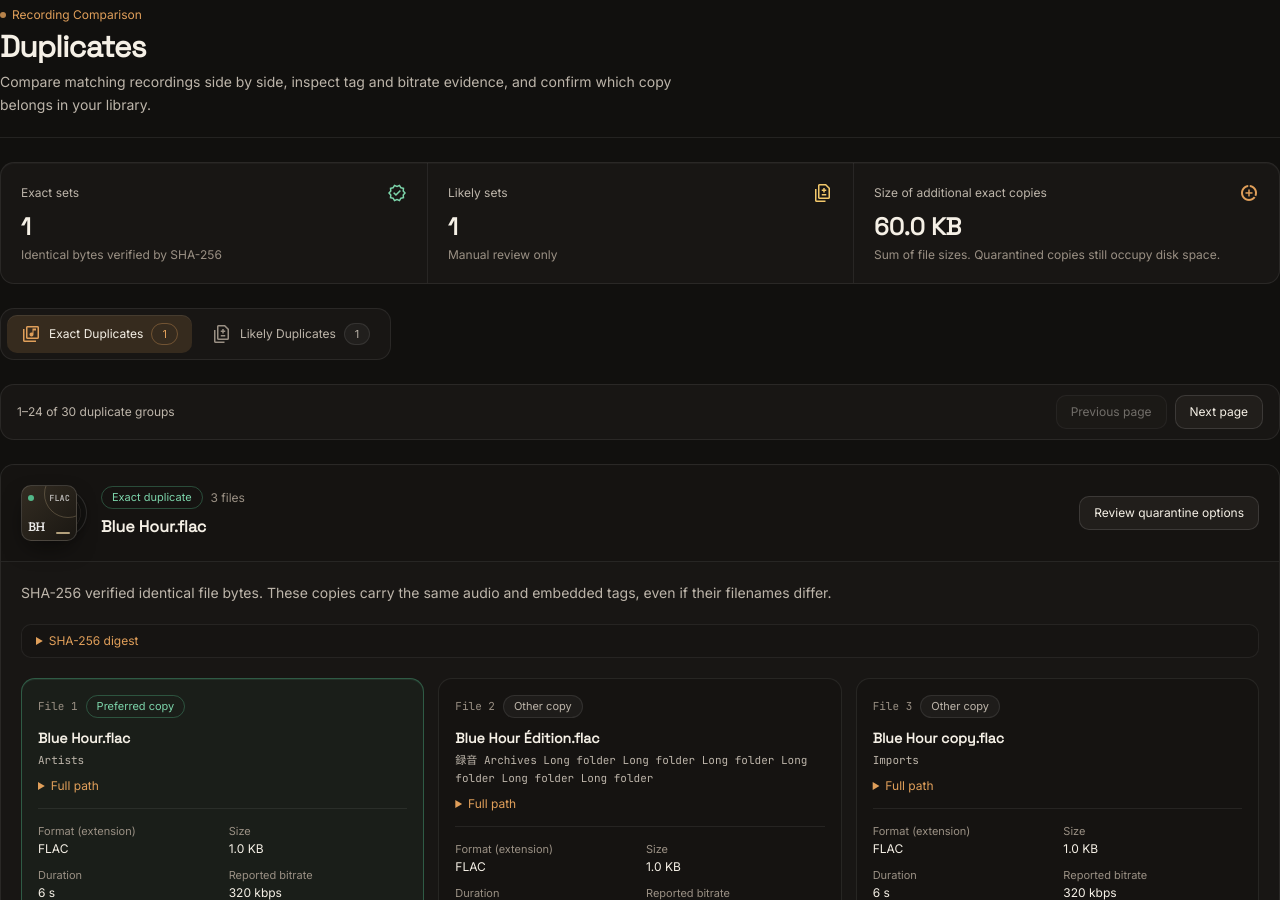
Duplicate comparison › pages large duplicate sets and starts each tab on its first page
The image size is (1280, 900).
expect the navigation bar named "duplicate groups pages" is shown: met, box [0,384,1279,440]
expect the text "1–24 of 30 duplicate groups" is shown: met, box [17,404,175,420]
Step 1. Click the button "Next page" → click(1219, 412), box [1175,394,1263,428]
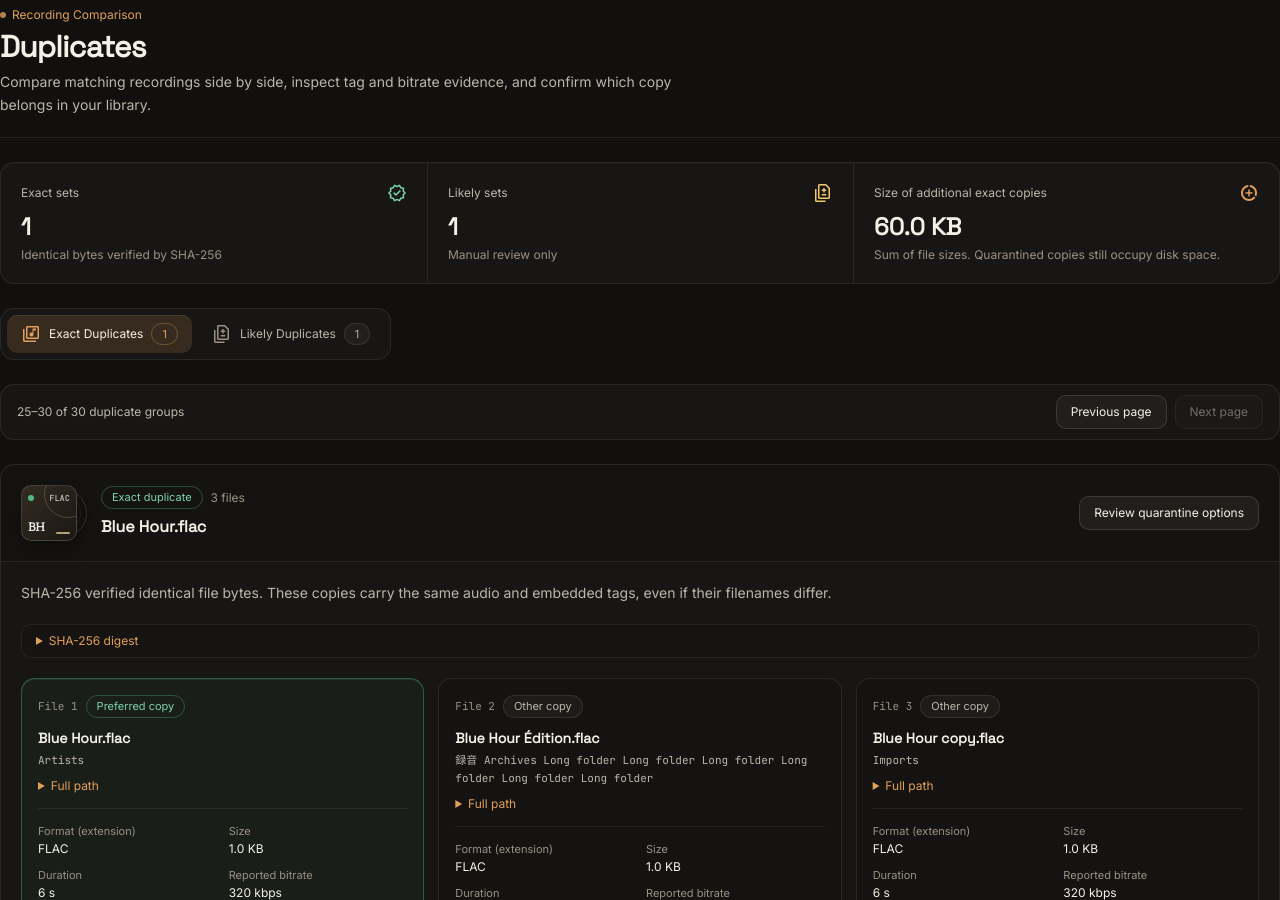
expect the button "Next page" is disabled: met, box [1175,394,1263,428]
Step 2. Click the button "Likely Duplicates 1" → click(291, 334), box [198,314,384,352]
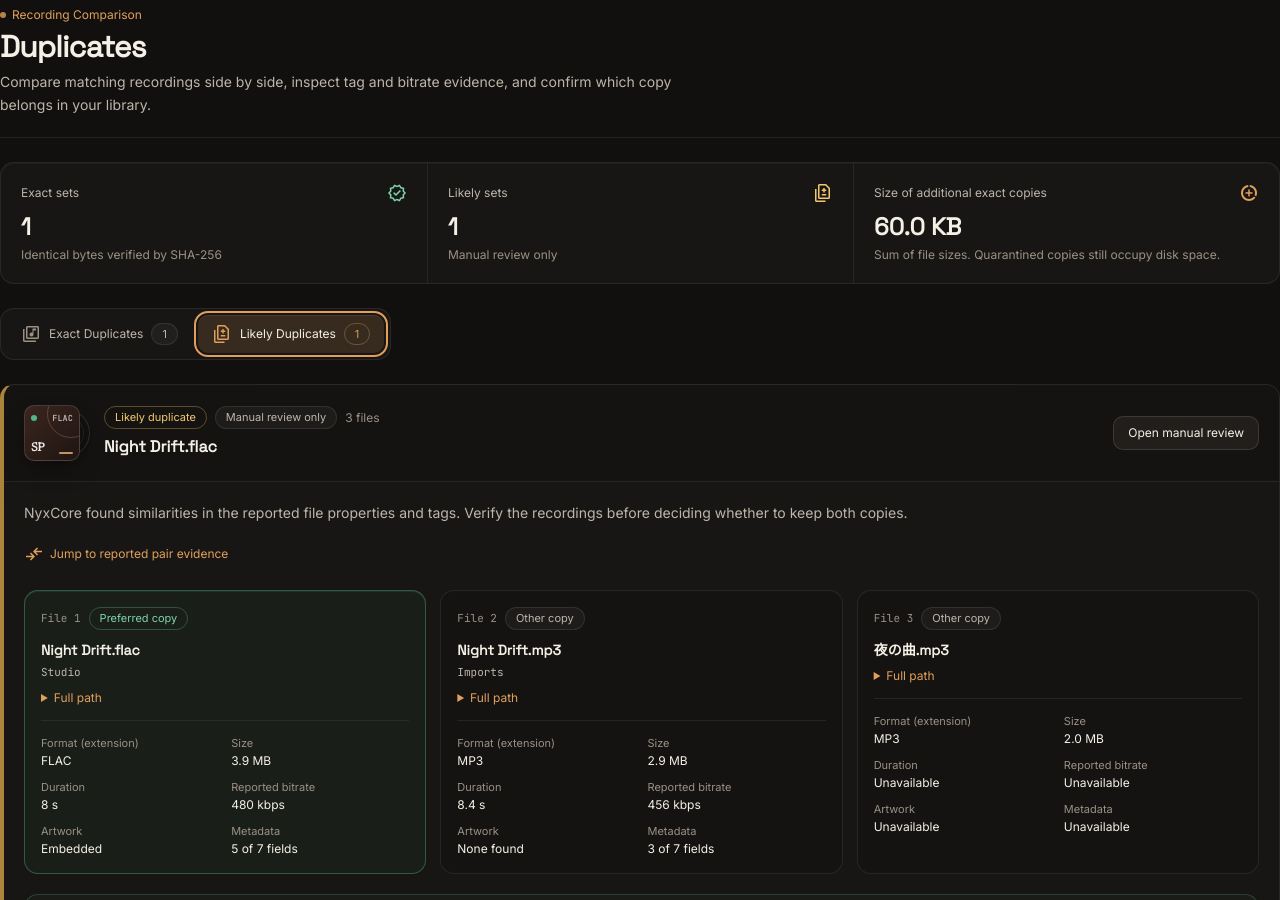
Step 3. Click the button "Exact Duplicates 1" → click(99, 334), box [7,314,192,352]
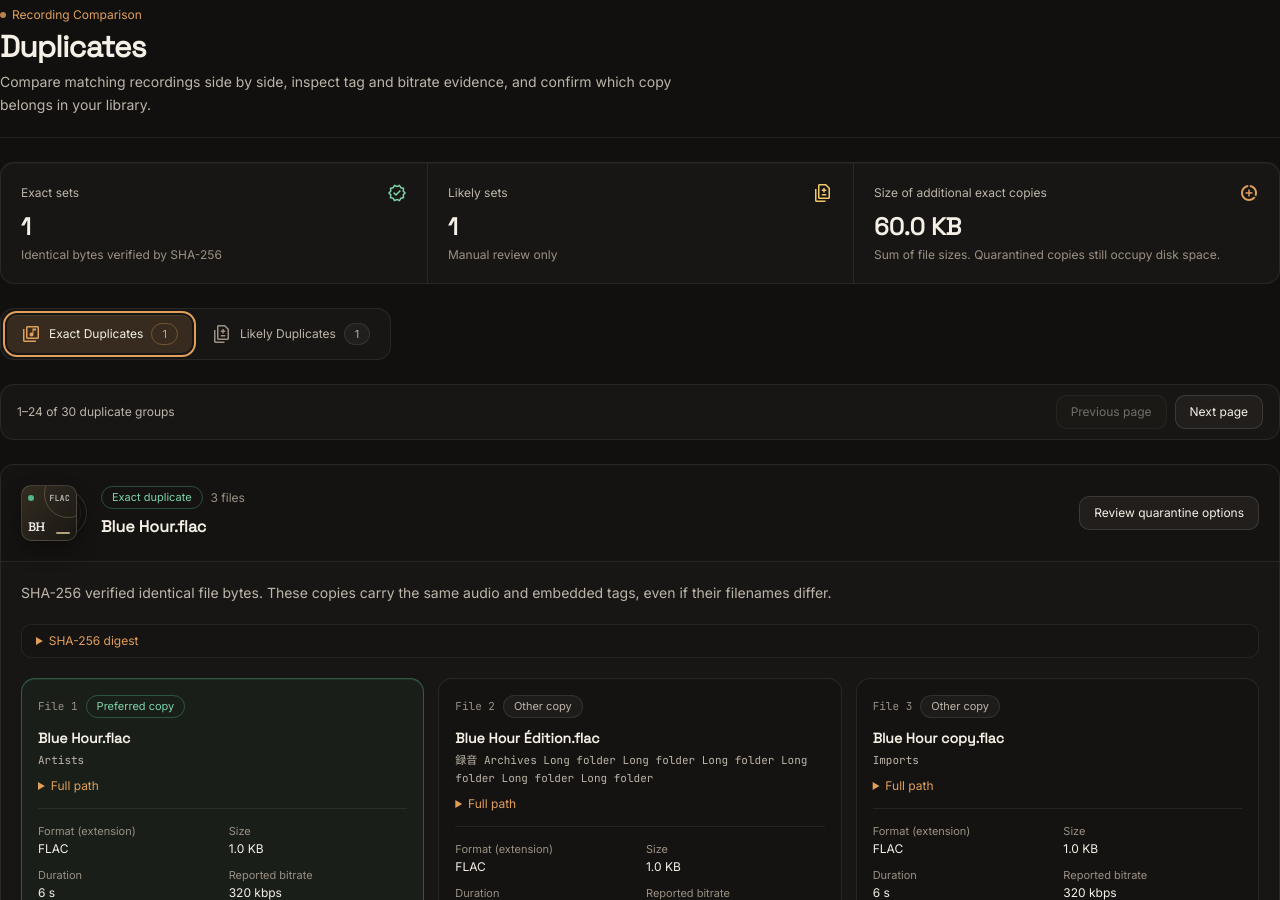
expect the text "1–24 of 30 duplicate groups" is shown: met, box [17,404,175,420]
